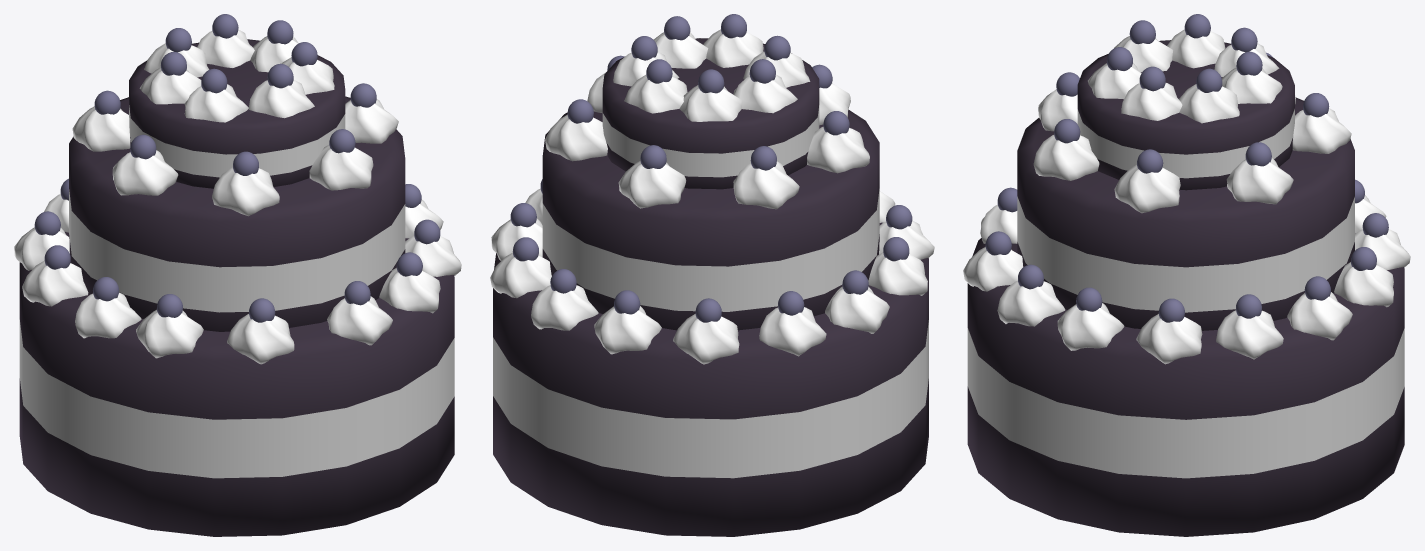
File: Cake02.fbx
3 views of the same model, side by side, from view 1: azimuth 30°, elevation 25°; view 2: azimuth 150°, elevation 25°; view 3: azimuth 270°, elevation 25° (orthographic).
Parts seen in each view (by area): view 1: Cake02; view 2: Cake02; view 3: Cake02.
Part boxes in pixels (x1,y1,x2,y2): Cake02: (14,14,461,536); Cake02: (490,14,934,536); Cake02: (963,14,1410,536).
Size of the model in its own units: 868 by 870 by 879.
